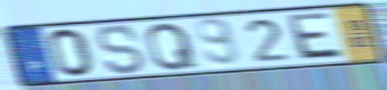0: (45, 27, 98, 79)
2: (244, 17, 293, 64)
9: (196, 17, 243, 71)
E: (286, 11, 348, 62)
Q: (144, 21, 200, 73)
S: (95, 23, 148, 77)
